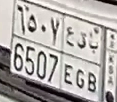0: (36, 23, 48, 80)
5: (25, 14, 38, 77)
6: (13, 3, 26, 73)
7: (47, 17, 60, 82)
B: (86, 40, 100, 93)
E: (64, 26, 76, 85)
G: (76, 31, 87, 89)
